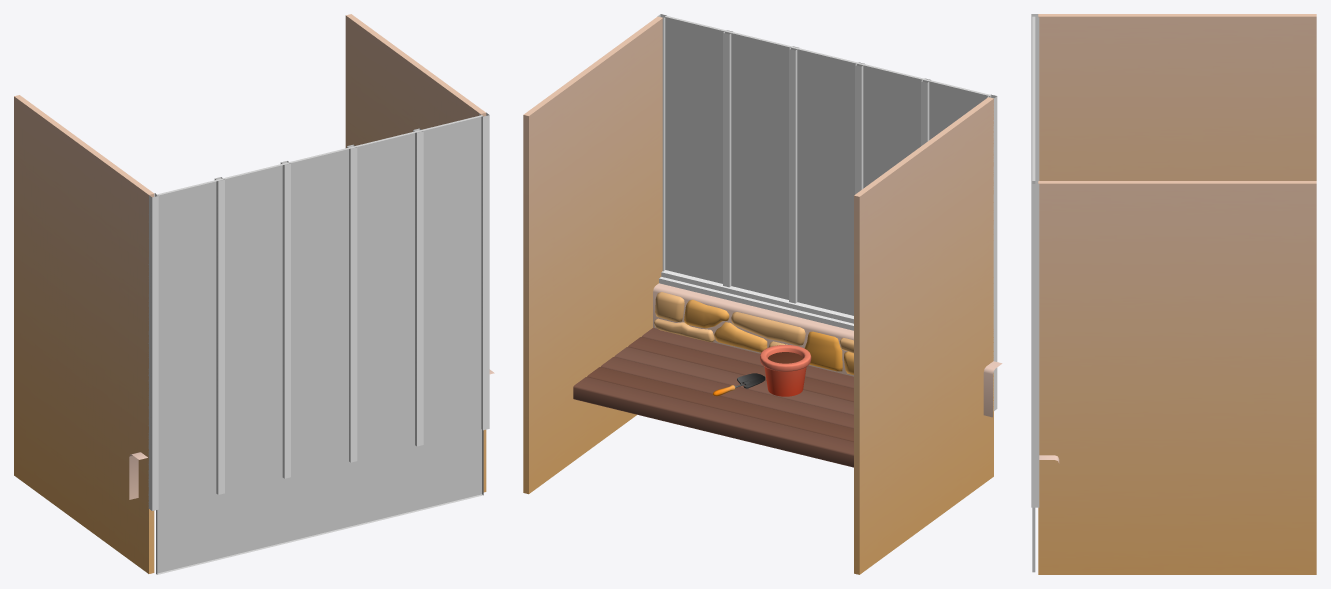
The model's file is decors.fbx.
3 views of the same model, side by side, from view 1: azimuth 30°, elevation 25°; view 2: azimuth 150°, elevation 25°; view 3: azimuth 270°, elevation 25° (orthographic). The views are drawn at different scales.
Parts seen in each view (by area): view 1: glass, fake walls, cadre fenetres; view 2: fake walls, glass, table, cadre fenetres, rochers mur, décors, rebordFenetres, Cylinder; view 3: fake walls, cadre fenetres, glass.
Part boxes in pixels (bbox=[...]): glass: bbox=[156, 115, 483, 574]; fake walls: bbox=[14, 14, 486, 573]; cadre fenetres: bbox=[148, 112, 489, 510]; fake walls: bbox=[523, 16, 993, 574]; glass: bbox=[665, 15, 991, 315]; table: bbox=[573, 327, 853, 467]; cadre fenetres: bbox=[657, 14, 997, 410]; rochers mur: bbox=[654, 292, 853, 374]; décors: bbox=[653, 283, 1002, 417]; rebordFenetres: bbox=[659, 270, 853, 330]; Cylinder: bbox=[760, 344, 811, 396]; fake walls: bbox=[1038, 14, 1316, 574]; cadre fenetres: bbox=[1031, 14, 1039, 507]; glass: bbox=[1032, 16, 1035, 572].
Size of the model in its own units: 1080 by 1100 by 726.
